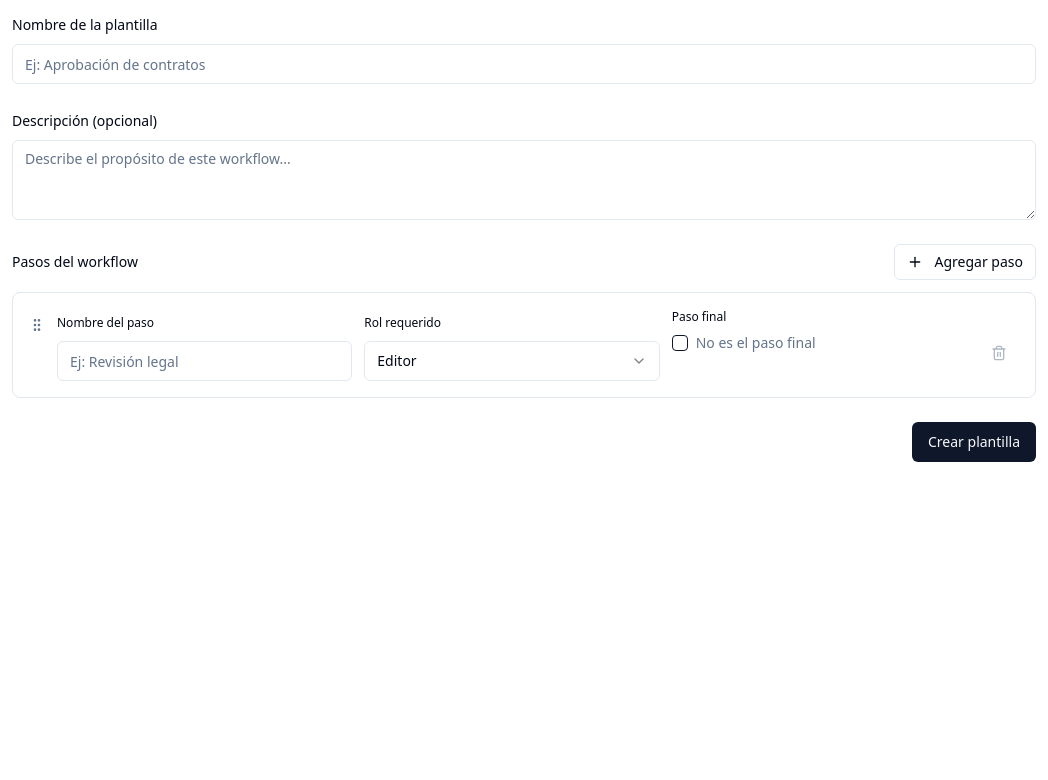
WorkflowTemplateForm — template name validation › clears the name error after filling in the template name
# Trigger validation
Click the button "Crear plantilla" at coordinates (974, 442), box x1=912 y1=422 x2=1036 y2=462
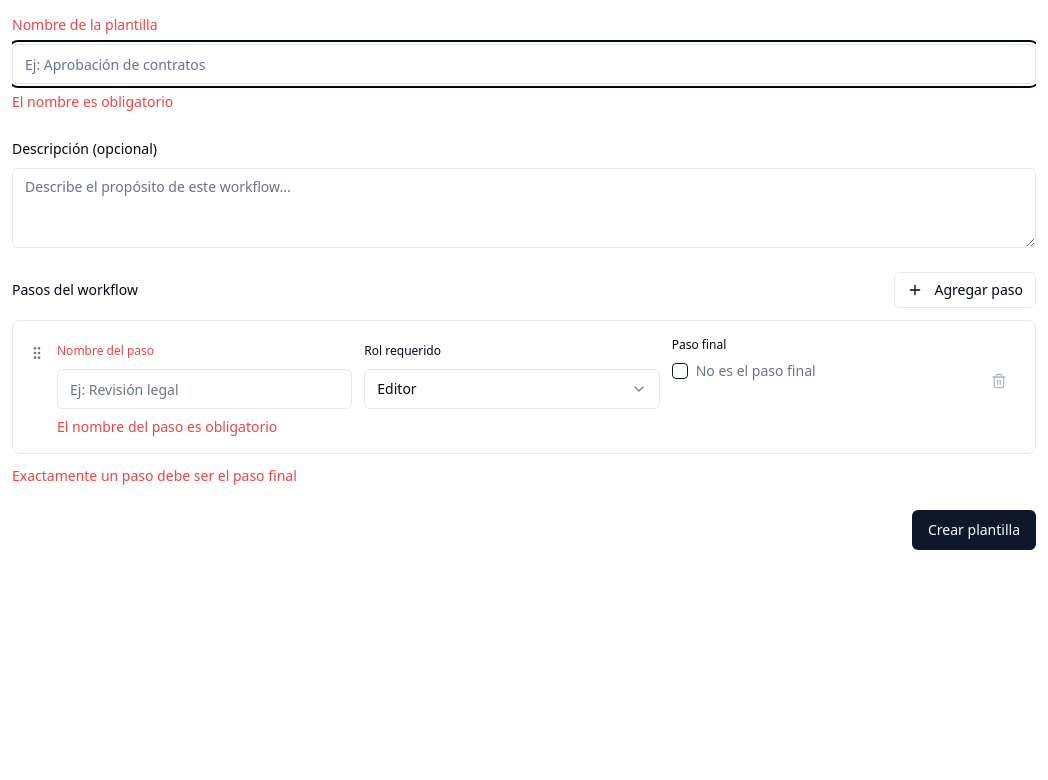
Result: the text "El nombre es obligatorio" is shown at x1=12 y1=92 x2=173 y2=111
# Fill the name — error should clear
Type "Workflow de contratos" into the field with placeholder "Ej: Aprobación de contratos" at coordinates (524, 64), box x1=12 y1=44 x2=1036 y2=84
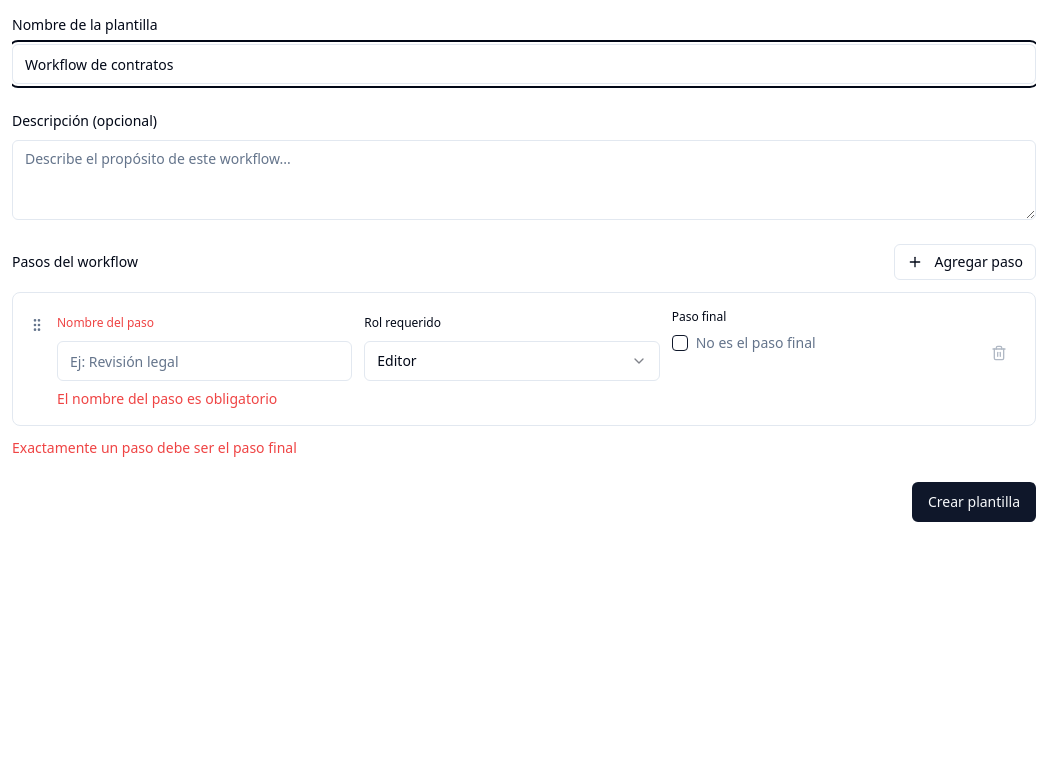
Result: the text "El nombre es obligatorio" is gone
